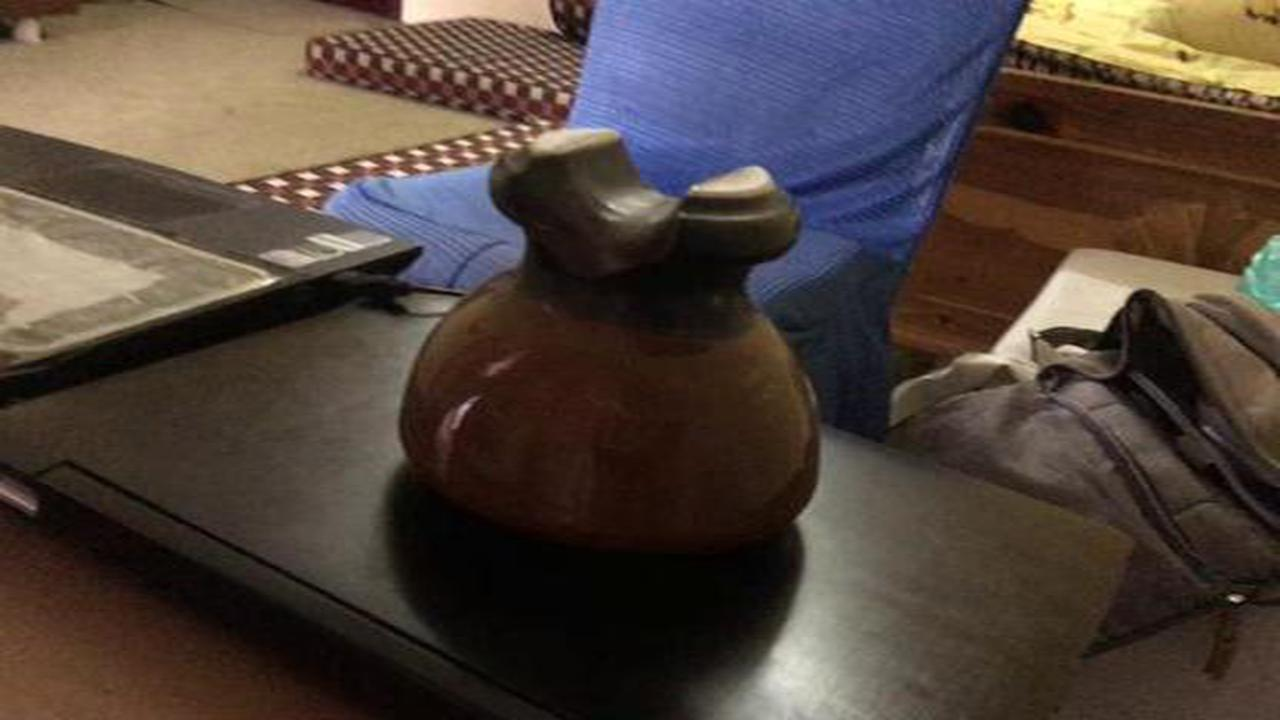insulator_pin: (379, 115, 844, 587)
